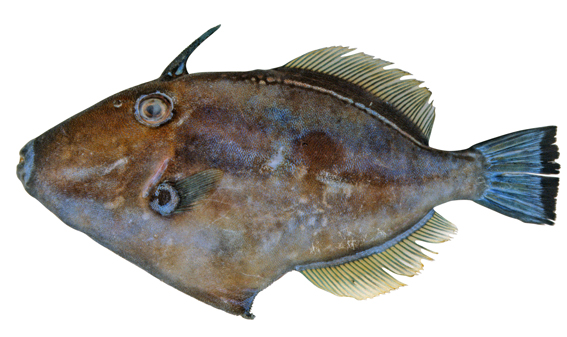fish: (16, 23, 561, 321)
